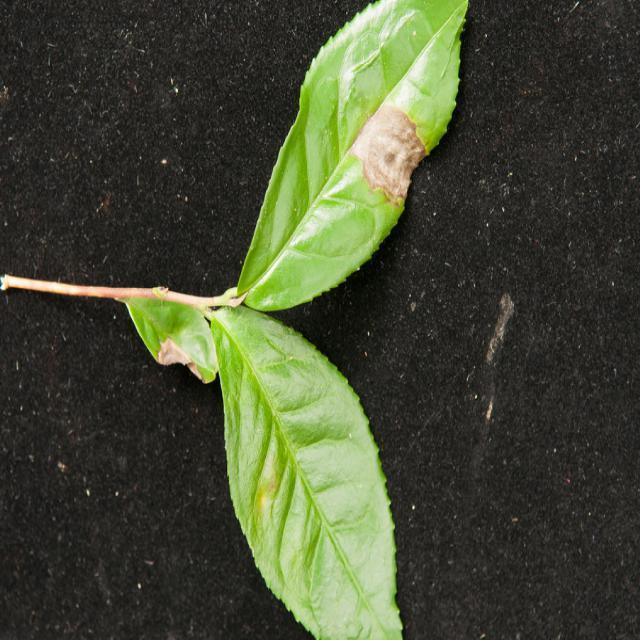Tea exobasidium blight: (347, 91, 428, 199)
